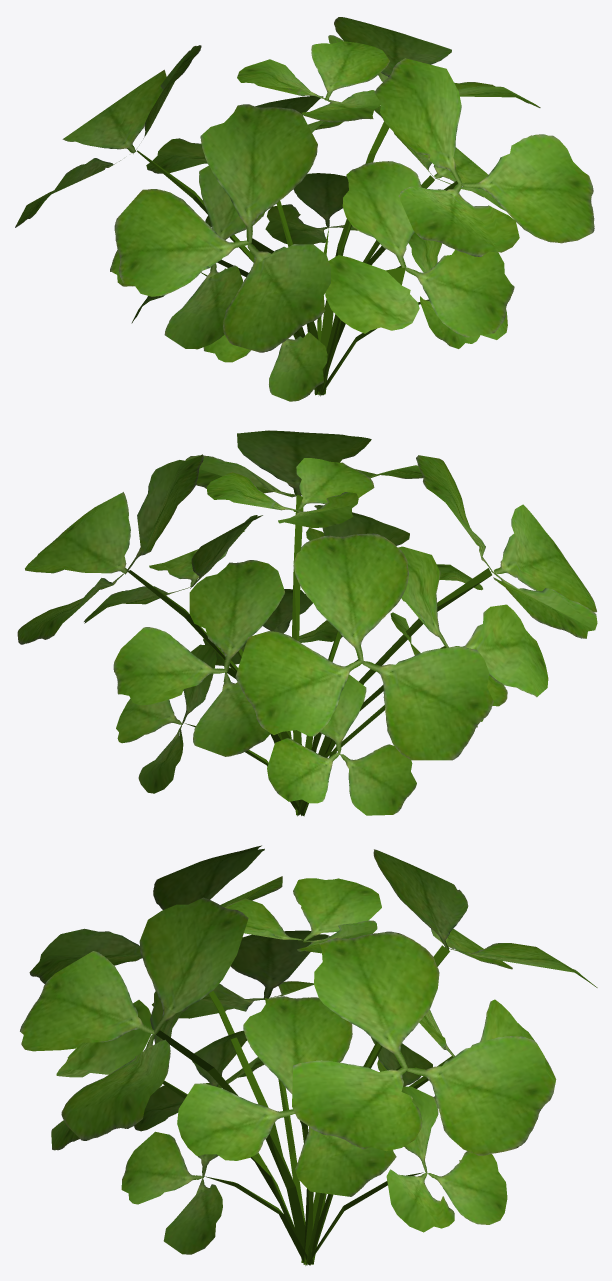
The model's file is grassClover-01.fbx.
3 renders of one model, top to bottom at view 1: azimuth 30°, elevation 25°; view 2: azimuth 150°, elevation 25°; view 3: azimuth 270°, elevation 25°, orthographic. The views are drawn at different scales.
Visible parts, largest first — view 1: Plane.012; view 2: Plane.012; view 3: Plane.012.
Boxes of the visible parts, <box> form: Plane.012: <box>15,17,594,401</box>; Plane.012: <box>17,430,597,816</box>; Plane.012: <box>20,845,597,1265</box>.
Bounding box in the file's own units: 44 × 30.18 × 41.93.
1 material, 1 textured.
